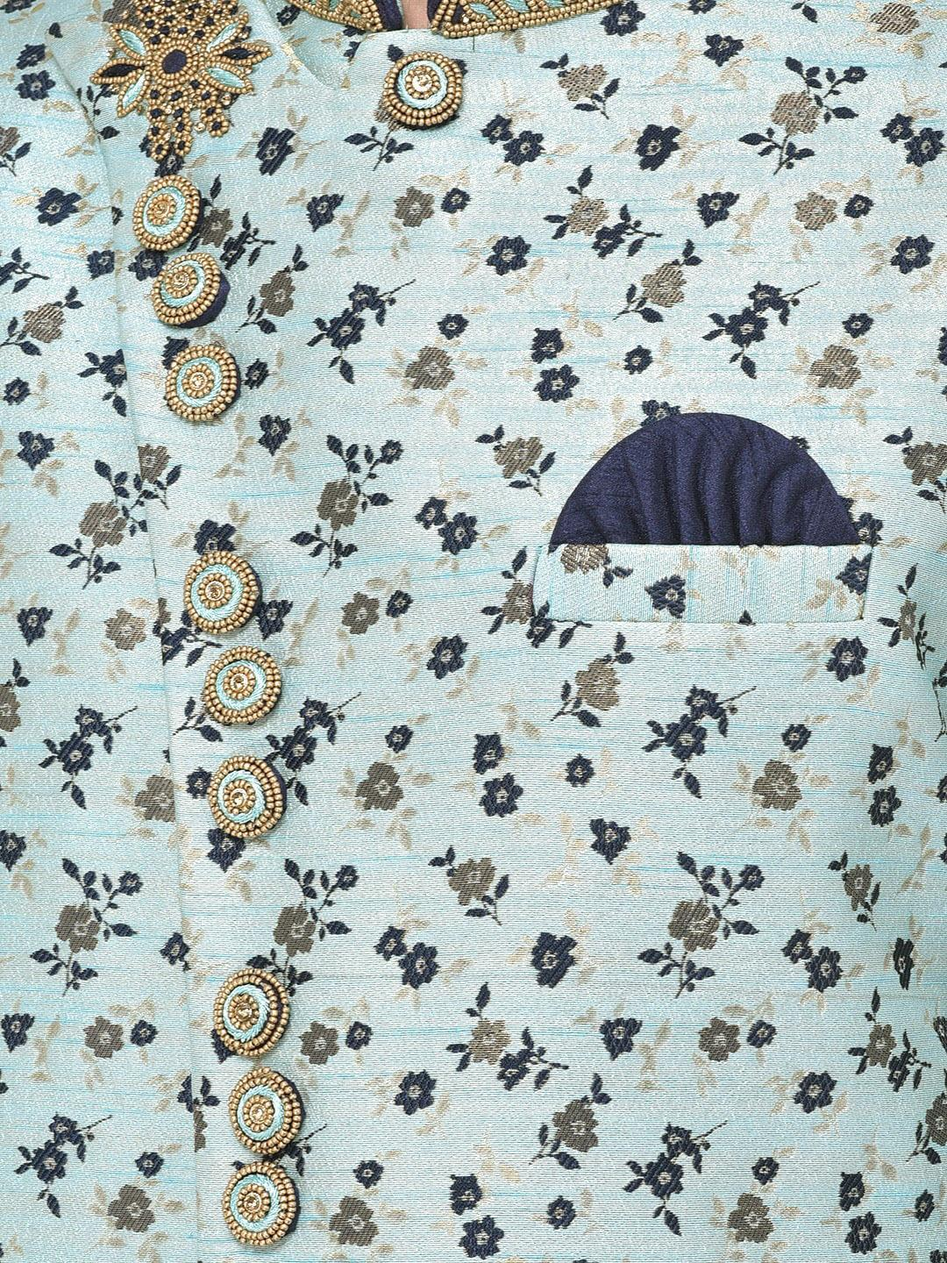Design Sherwani: (3, 2, 942, 1258)
